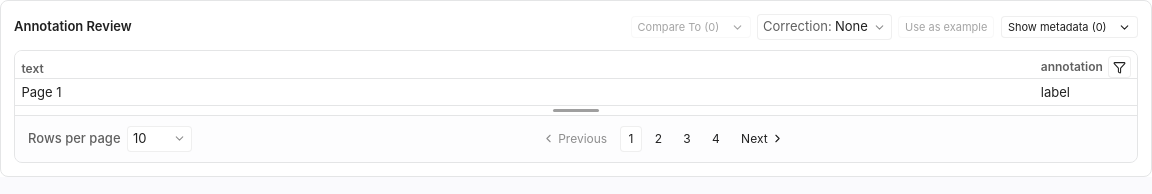
it: RunAllReviewTable › loads the selected Review page through the shared numbered pagination
Expected: the text "Page 1" is shown, [15,79,1034,105]
Step 1. Click the link "2" → (658, 139), box [655,131,662,146]
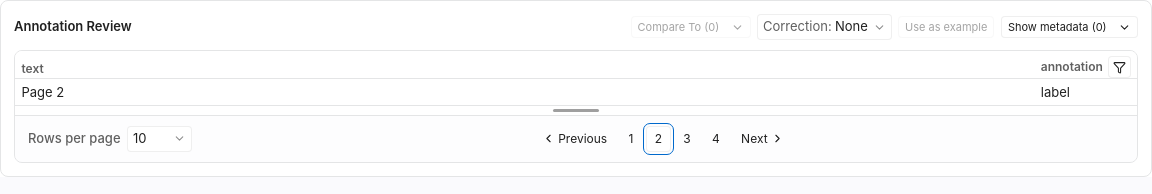
Expected: the text "Page 2" is shown, [15,79,1034,105]
